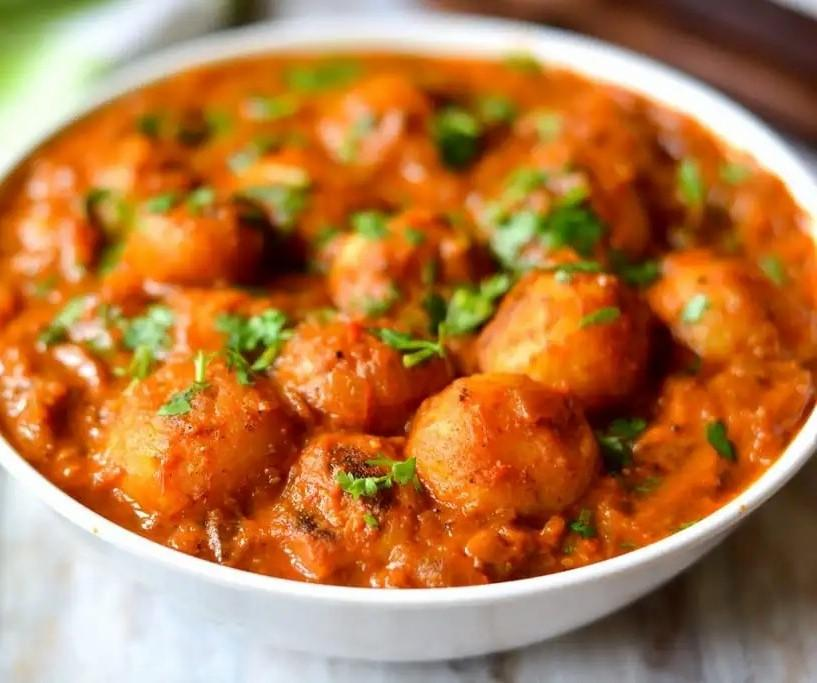DumAloo: (0, 0, 817, 588)
